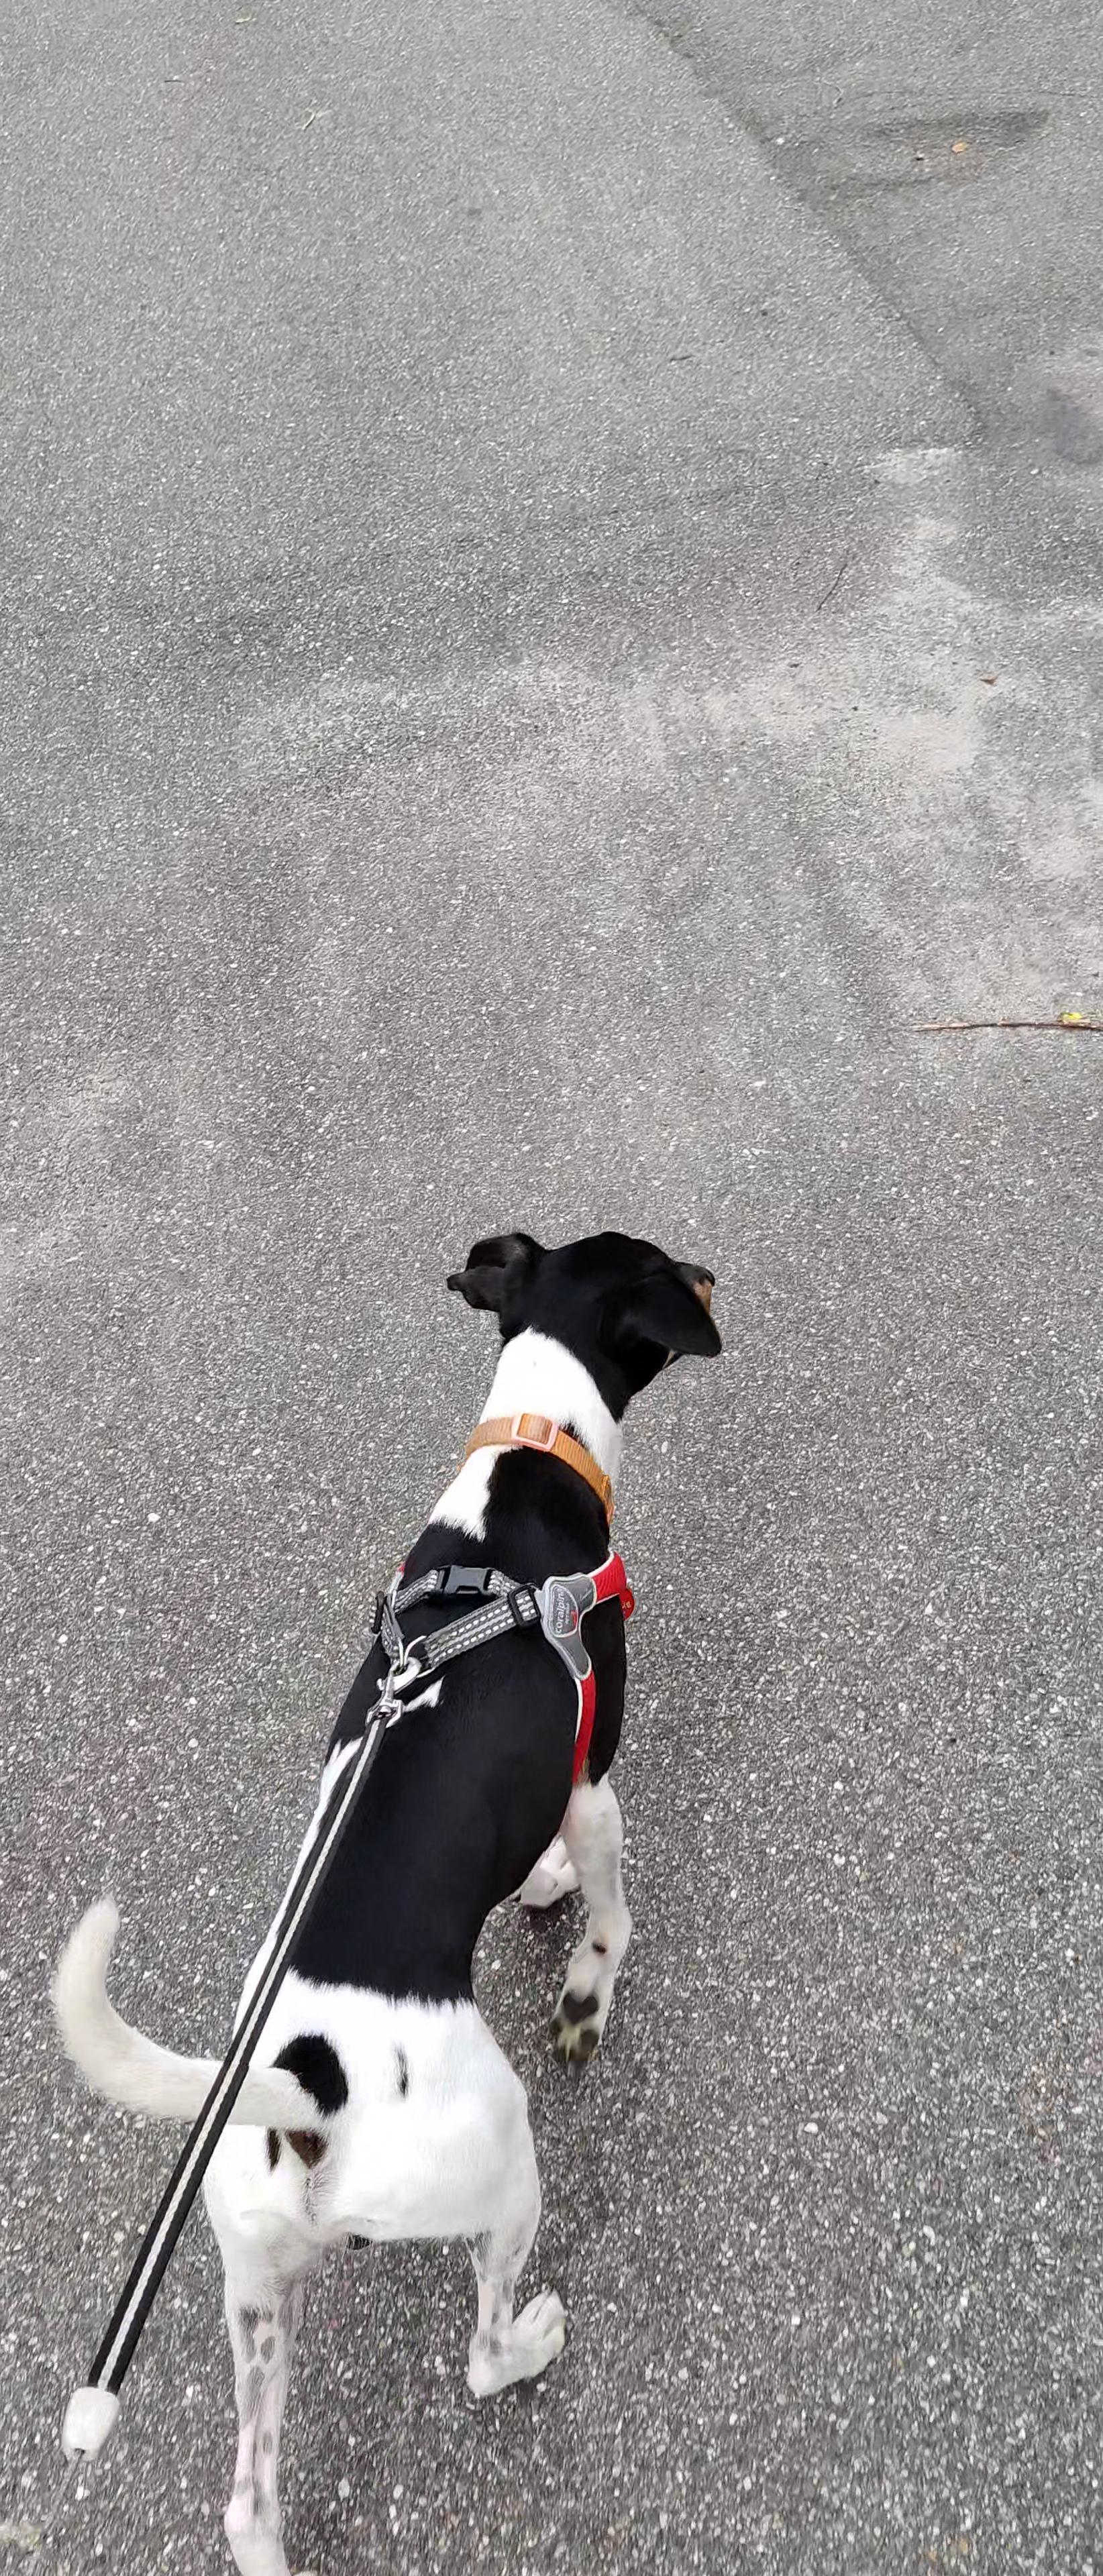Dog: (36, 1219, 736, 2576)
